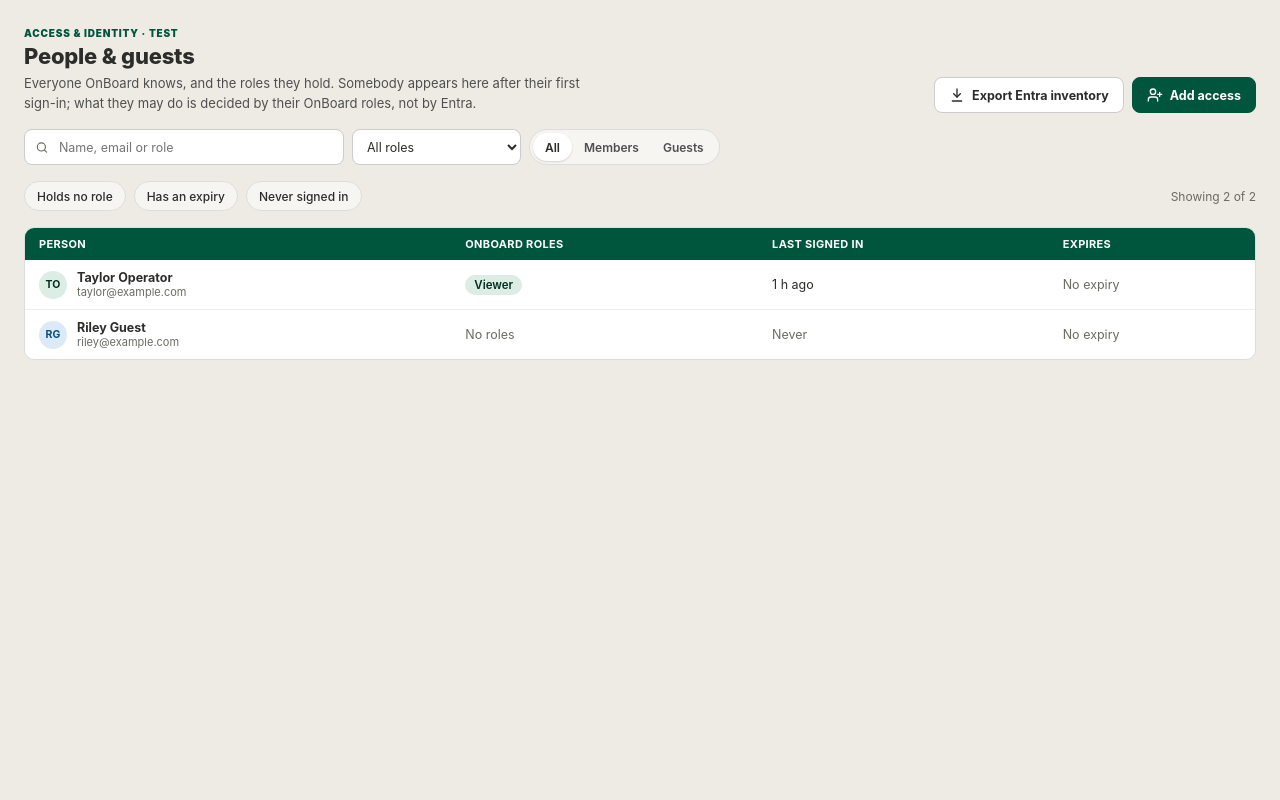
Test case: People & guests › revokes one grant by its id, with a reason
Step 1. Click the button "Taylor Operator" → (125, 278), box [77,270,172,285]
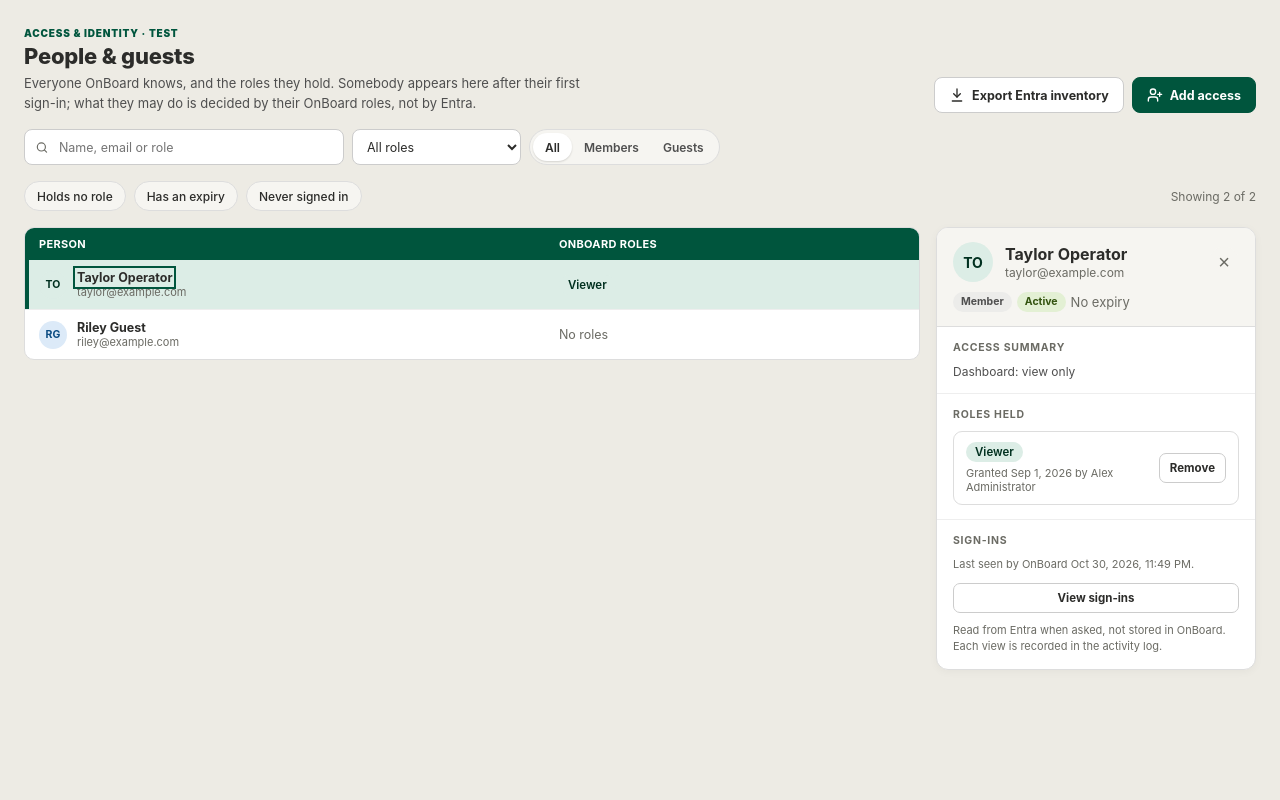
Step 2. Click the button with aria-label "Remove access: Viewer for Taylor Operator" → (1192, 468), box [1159,453,1226,483]
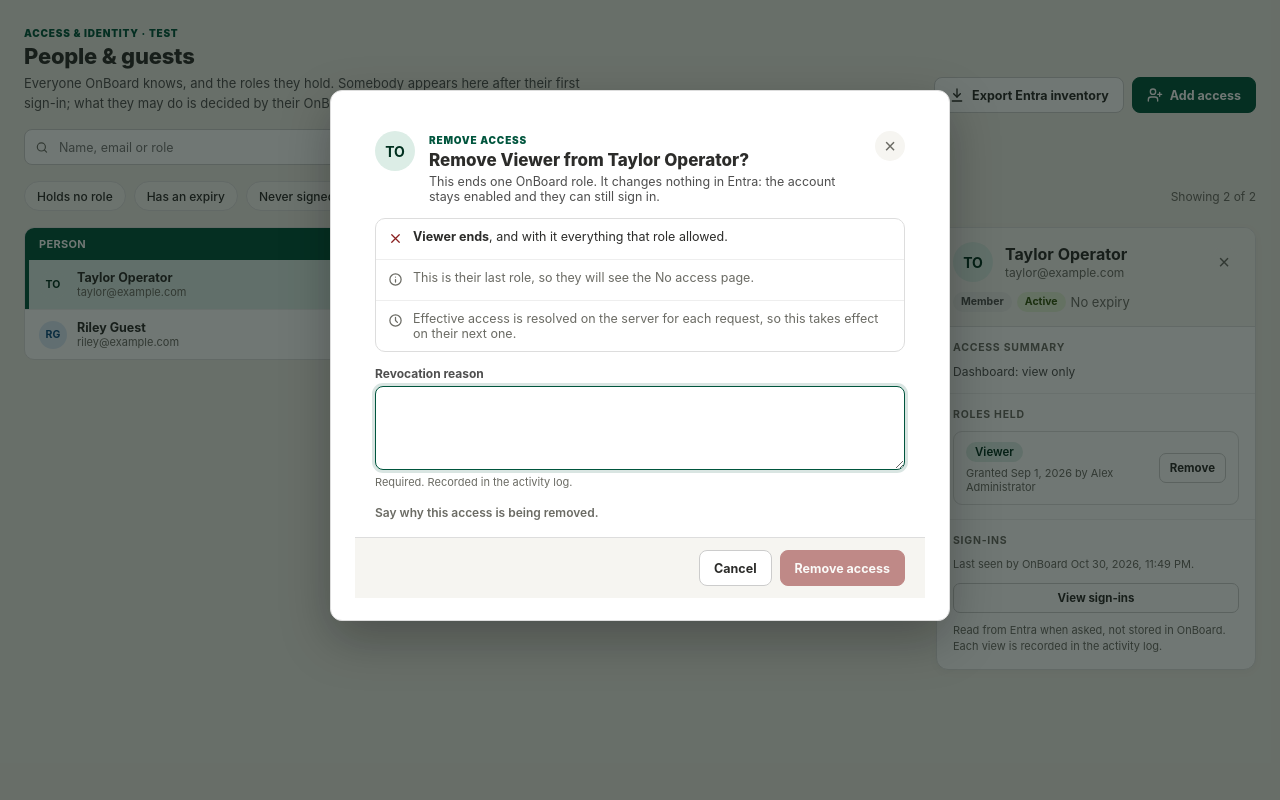
Now the button "Remove access" is disabled, box [780,550,905,586]
Step 3. Type "Moved to another team" into the text box labelled "Revocation reason Required. Recorded in the activity log." → (640, 428), box [375,386,905,470]
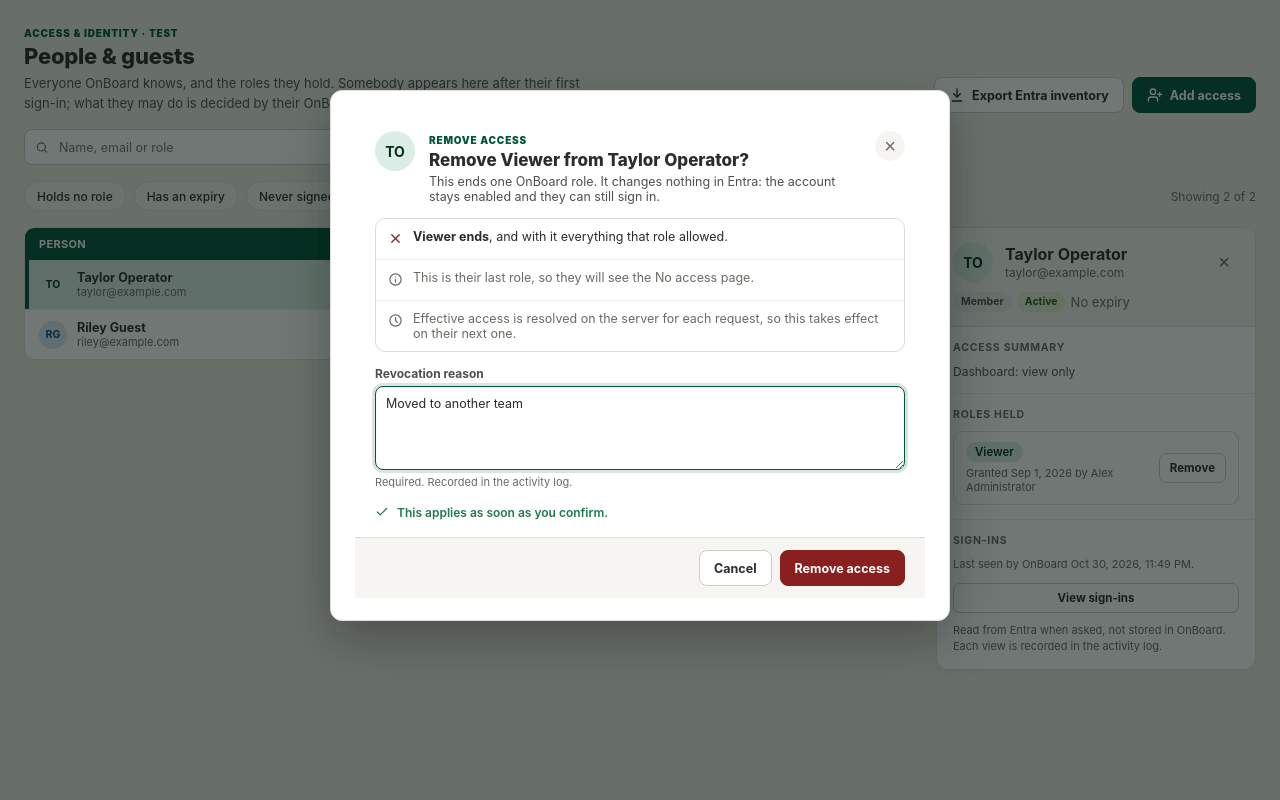
Step 4. Click the button "Remove access" → (842, 568), box [780,550,905,586]
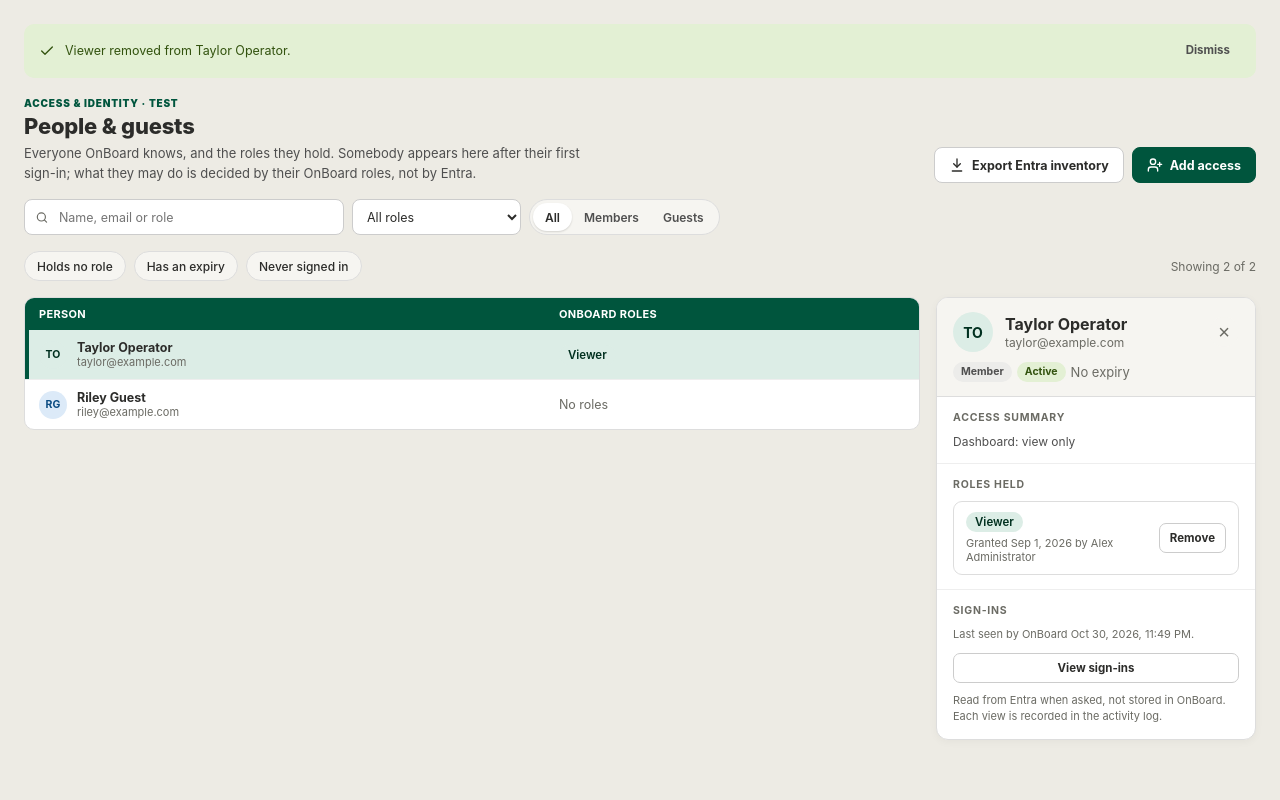
Now the text "Viewer removed from Taylor Operator." is shown, box [65,43,291,58]
